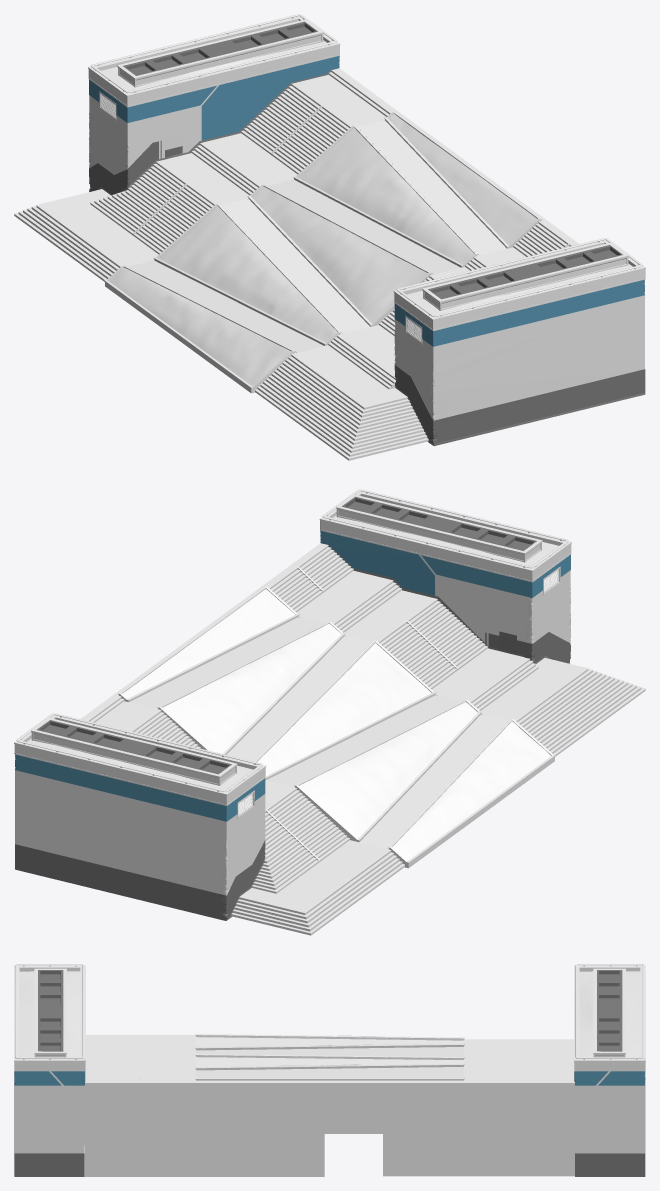
3 views of the same model, one above another, from view 1: azimuth 30°, elevation 25°; view 2: azimuth 150°, elevation 25°; view 3: azimuth 270°, elevation 25° (orthographic). The views are drawn at different scales.
Visible parts, largest first — view 1: SM_I_RoadFacility_Ground_T_17; view 2: SM_I_RoadFacility_Ground_T_17; view 3: SM_I_RoadFacility_Ground_T_17.
Part boxes in pixels (x1,y1,x2,y2): SM_I_RoadFacility_Ground_T_17: (14, 14, 645, 460); SM_I_RoadFacility_Ground_T_17: (14, 489, 645, 935); SM_I_RoadFacility_Ground_T_17: (14, 964, 645, 1176).
Size of the model in its own units: 1846 by 914 by 391.
